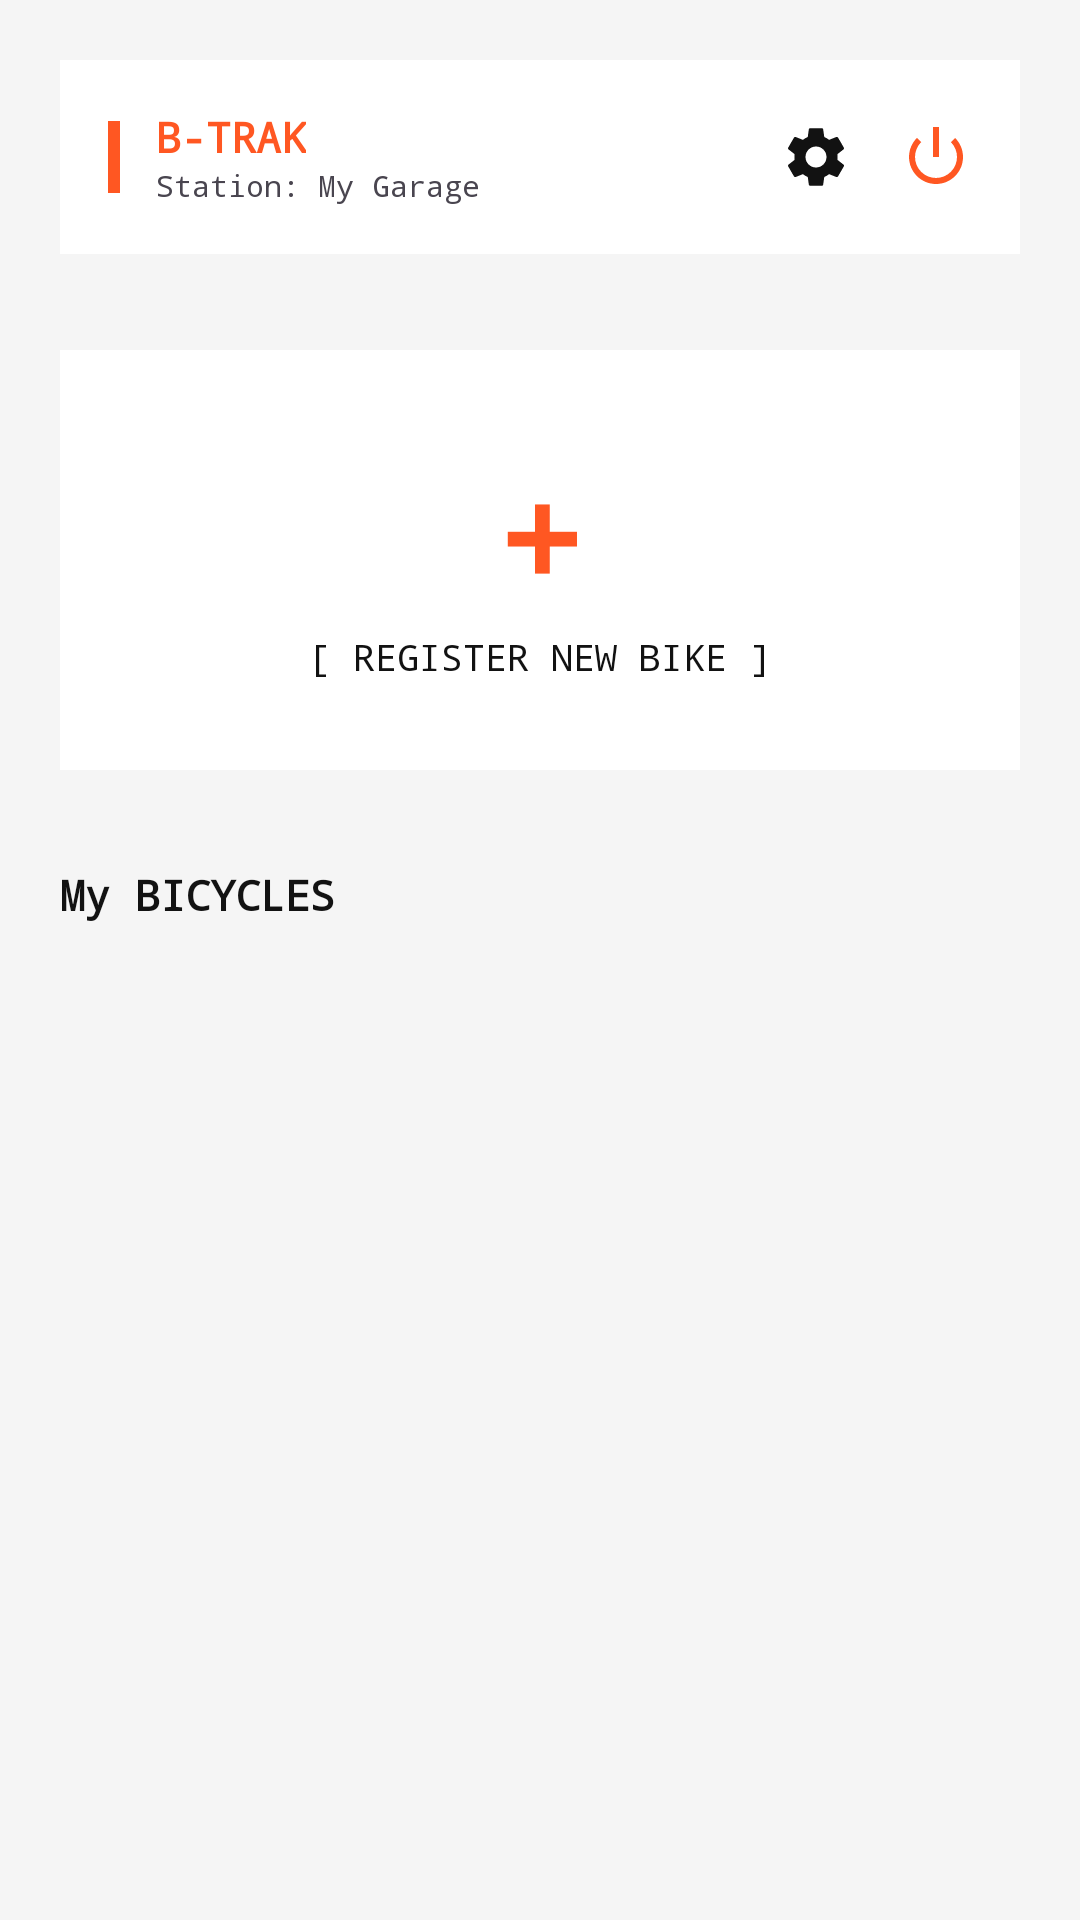

Icon bounding boxes for this 1080×1920 phone screenshot, format {"left": x1, "top": y1, "right": x2, "bottom": y2}:
Quit App: {"left": 909, "top": 127, "right": 963, "bottom": 184}
Settings: {"left": 788, "top": 128, "right": 844, "bottom": 186}
